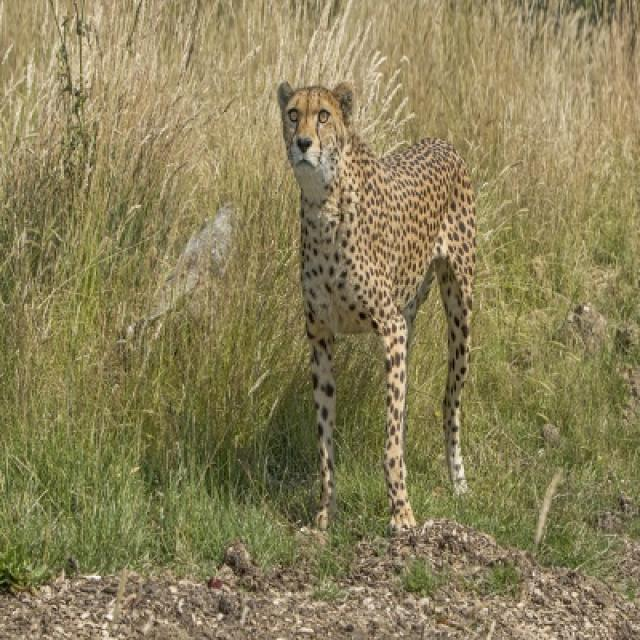Cheetah: (277, 85, 478, 539)
